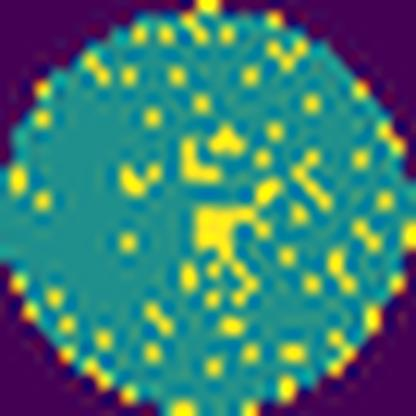Center: (180, 113, 278, 314)
